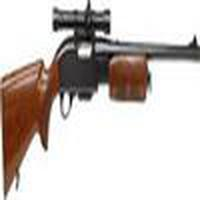gun: (2, 10, 188, 191)
